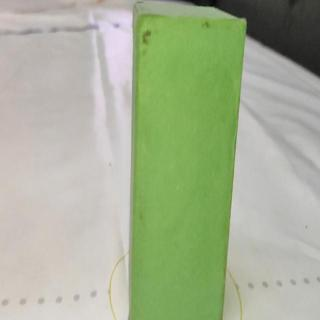greenbox: (127, 0, 247, 320)
